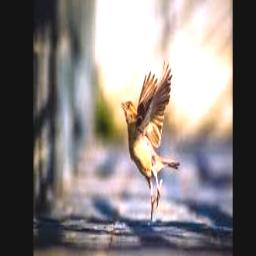Sparrow: (121, 60, 179, 225)
